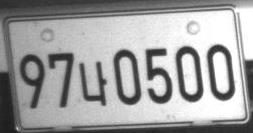0: (112, 48, 142, 106), (206, 43, 236, 101), (175, 45, 204, 103)
5: (144, 47, 173, 104)
7: (47, 51, 75, 109)
9: (18, 52, 46, 109)
나: (78, 60, 107, 107)
